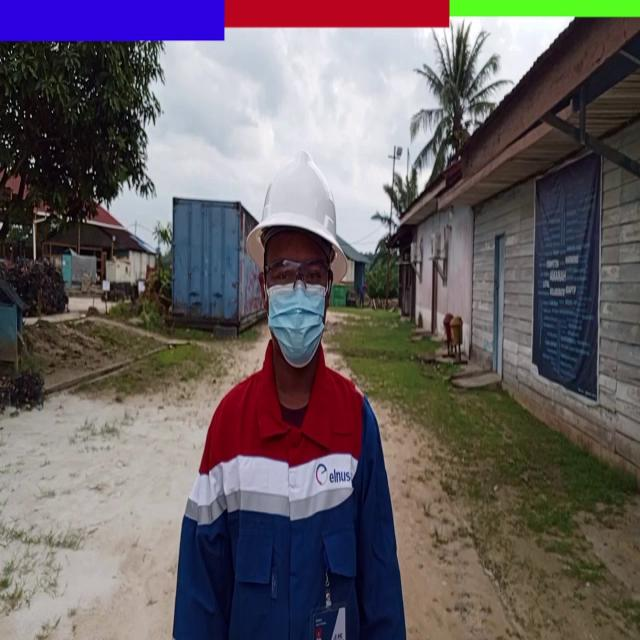Hardhat: (244, 154, 348, 292)
Mask: (265, 284, 330, 369)
Overall Suit: (172, 356, 406, 640)
